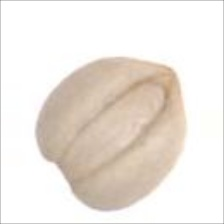L5: (59, 75, 171, 185), (145, 59, 185, 99)
L6: (33, 54, 188, 212)
